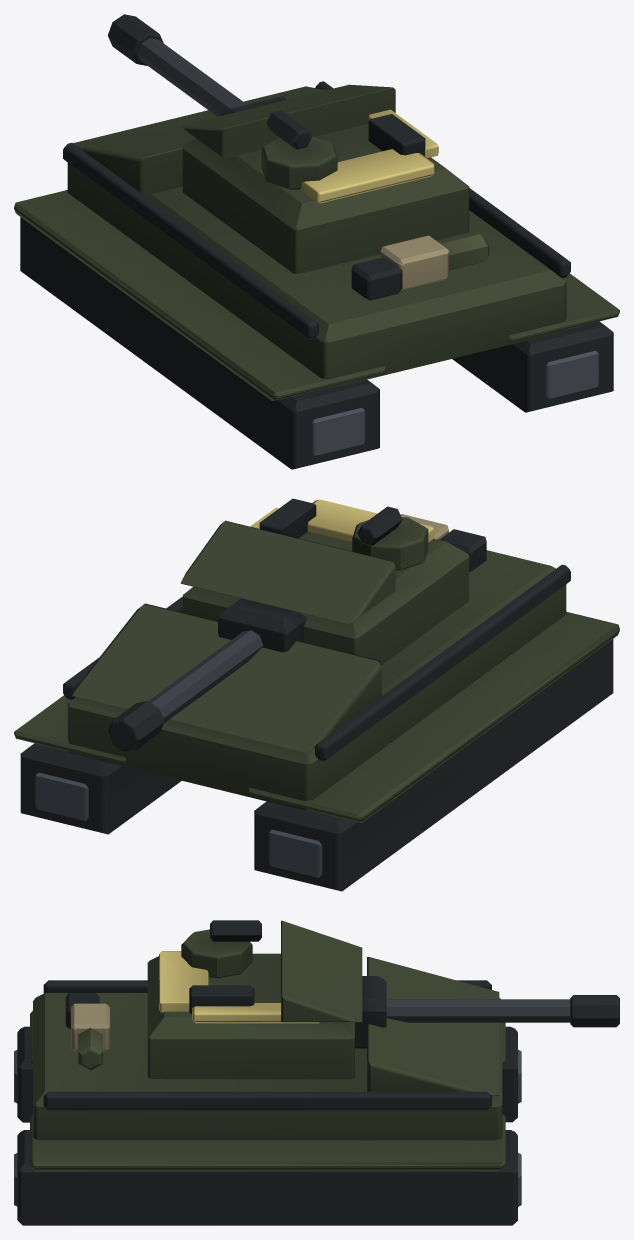
File: main_battle_tank.glb
3 renders of one model, top to bottom at view 1: azimuth 30°, elevation 25°; view 2: azimuth 150°, elevation 25°; view 3: azimuth 270°, elevation 25°, orthographic. The views are drawn at different scales.
Visible parts, largest first — view 1: Body, Turret; view 2: Body, Turret; view 3: Body, Turret.
Boxes of the visible parts, x1=… form: Body: x1=14, y1=81, x2=619, y2=469; Turret: x1=108, y1=14, x2=469, y2=273; Body: x1=14, y1=514, x2=619, y2=891; Turret: x1=107, y1=498, x2=469, y2=752; Body: x1=14, y1=957, x2=521, y2=1225; Turret: x1=147, y1=920, x2=619, y2=1079.
Bounding box in the file's own units: 3.07 × 2.01 × 5.11.
